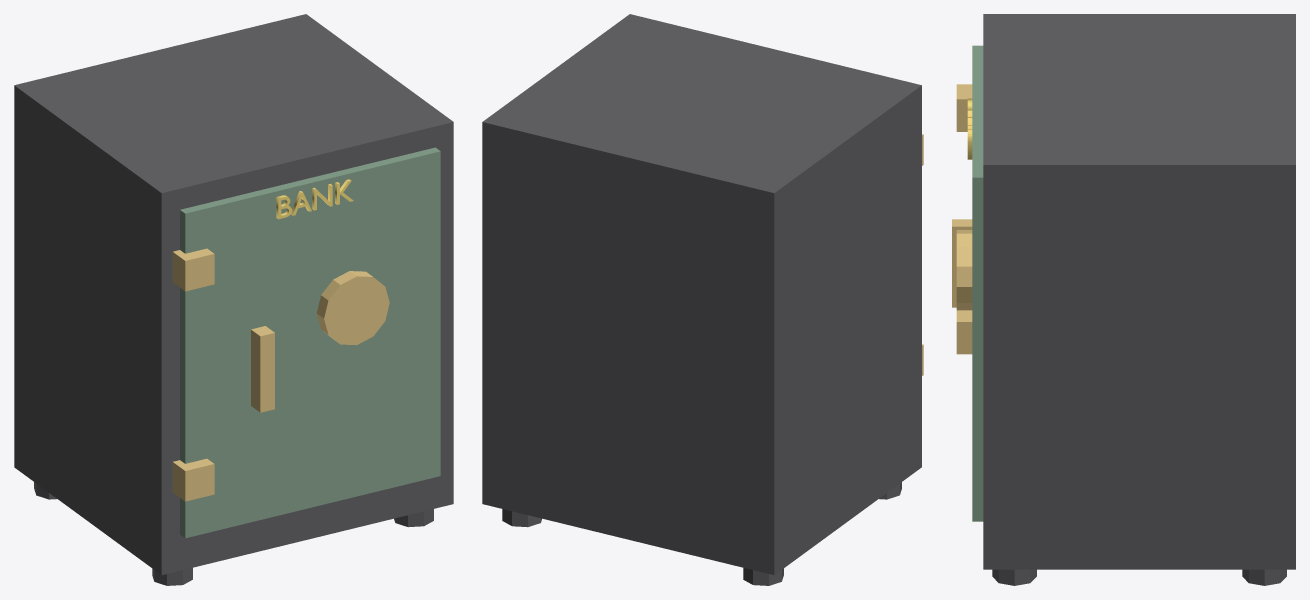
Rendered from SM_Safe.glb.
3 views of the same model, side by side, from view 1: azimuth 30°, elevation 25°; view 2: azimuth 150°, elevation 25°; view 3: azimuth 270°, elevation 25° (orthographic). The views are drawn at different scales.
Parts seen in each view (by area): view 1: SM_Safe; view 2: SM_Safe; view 3: SM_Safe.
Part boxes in pixels (box(x1,y1,x2,y2)): SM_Safe: box(14, 14, 453, 585); SM_Safe: box(482, 14, 923, 585); SM_Safe: box(952, 14, 1295, 585).
Size of the model in its own units: 0.8 by 1.05 by 0.77.
